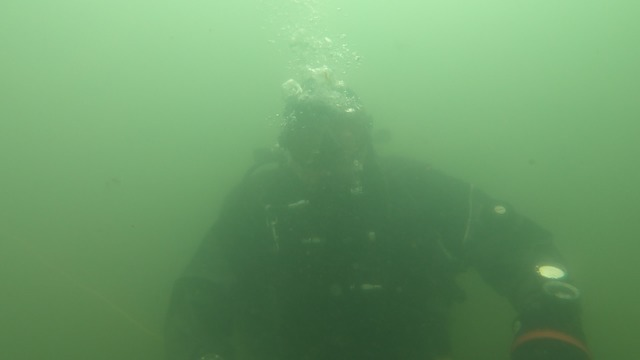Diver: (159, 73, 595, 358)
Head: (277, 78, 380, 215)
